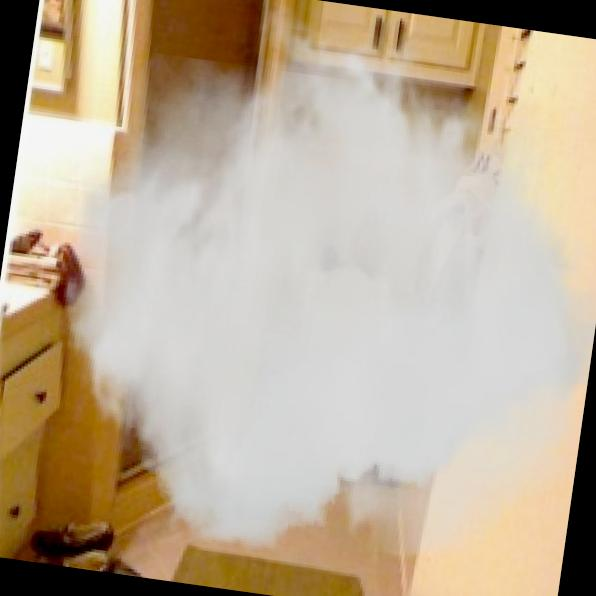smoke: (26, 0, 596, 591)
